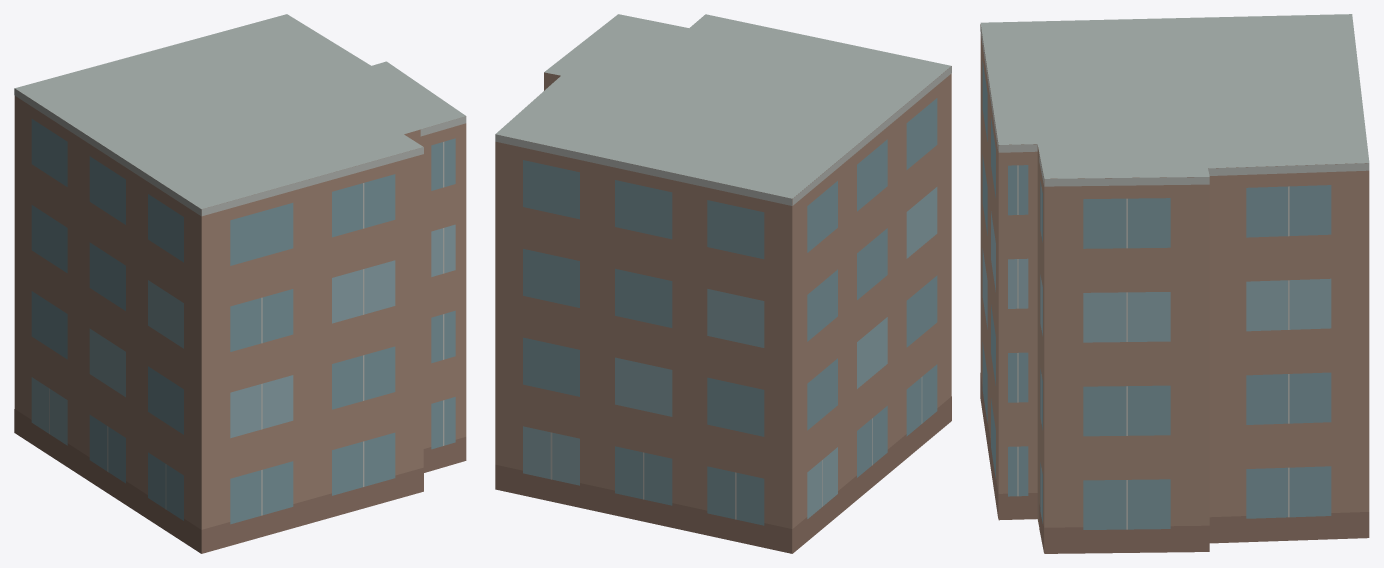
The model's file is survey-upis-32891105.glb.
The picture shows the model from 3 angles, left to right: view 1: azimuth 30°, elevation 25°; view 2: azimuth 150°, elevation 25°; view 3: azimuth 270°, elevation 25°; orthographic projection. The views are drawn at different scales.
Parts seen in each view (by area): view 1: survey-upis-32891105.tmp; view 2: survey-upis-32891105.tmp; view 3: survey-upis-32891105.tmp.
Part boxes in pixels (x1=…): survey-upis-32891105.tmp: x1=14, y1=14, x2=466, y2=553; survey-upis-32891105.tmp: x1=495, y1=14, x2=951, y2=553; survey-upis-32891105.tmp: x1=980, y1=14, x2=1369, y2=553.
Size of the model in its own units: 11.13 by 11.8 by 11.1.
